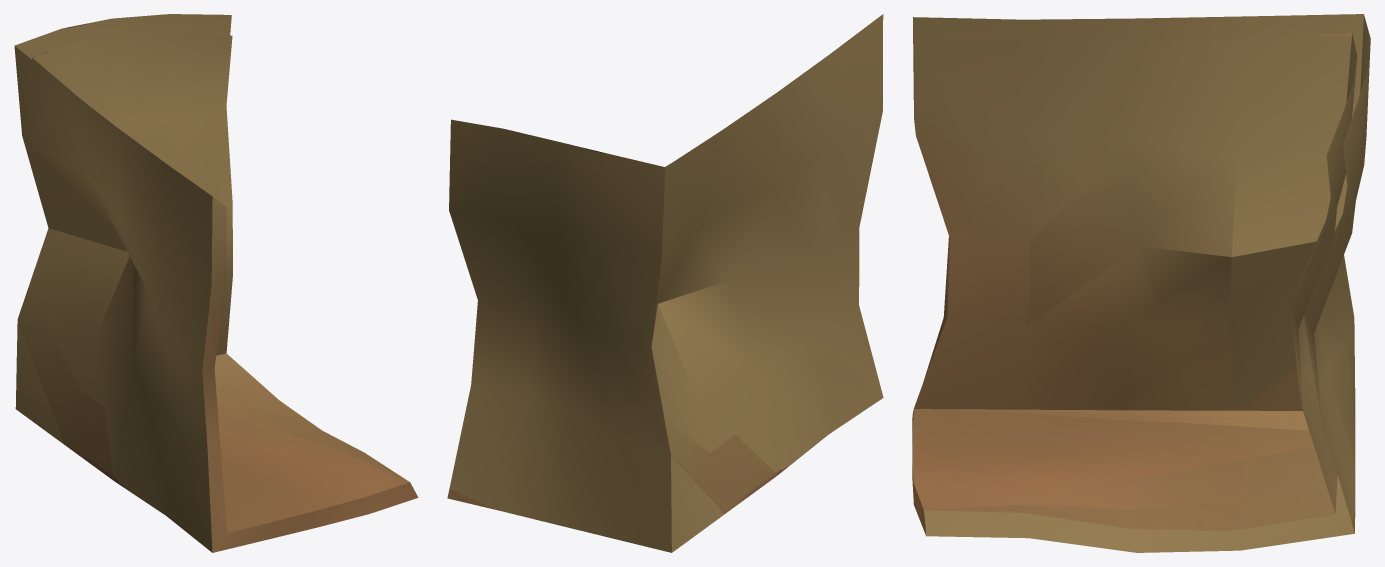
Rendered from box-right3-left.fbx.
The picture shows the model from 3 angles, left to right: view 1: azimuth 30°, elevation 25°; view 2: azimuth 150°, elevation 25°; view 3: azimuth 270°, elevation 25°; orthographic projection. The views are drawn at different scales.
Parts seen in each view (by area): view 1: box-right3-left; view 2: box-right3-left; view 3: box-right3-left.
Part boxes in pixels (<box>): box-right3-left: <box>14,14,418,552</box>; box-right3-left: <box>447,14,883,552</box>; box-right3-left: <box>912,14,1370,552</box>.
Size of the model in its own units: 104 by 176 by 172.
